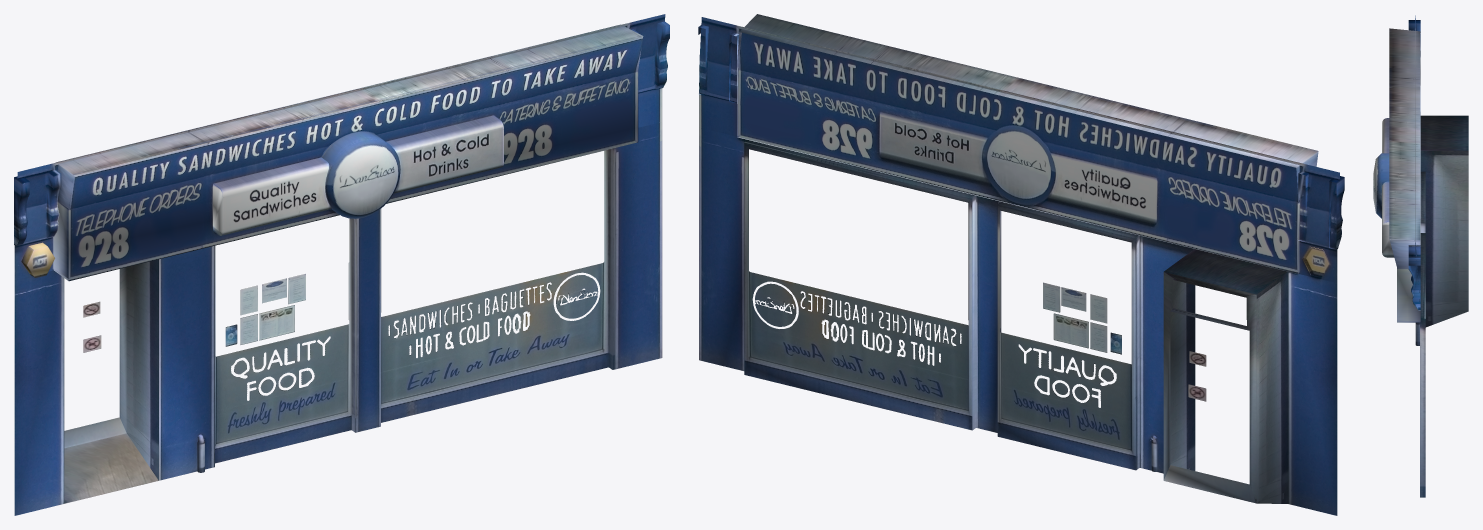
The model's file is shop_front11.obj.
3 renders of one model, left to right at view 1: azimuth 30°, elevation 25°; view 2: azimuth 150°, elevation 25°; view 3: azimuth 270°, elevation 25°, orthographic. The views are drawn at different scales.
Parts seen in each view (by area): view 1: shop_front11; view 2: shop_front11; view 3: shop_front11.
Boxes of the visible parts, <box> form: shop_front11: <box>14,14,669,515</box>; shop_front11: <box>698,14,1344,515</box>; shop_front11: <box>1373,15,1468,497</box>.
Size of the model in its own units: 5 by 2.55 by 0.8391.
